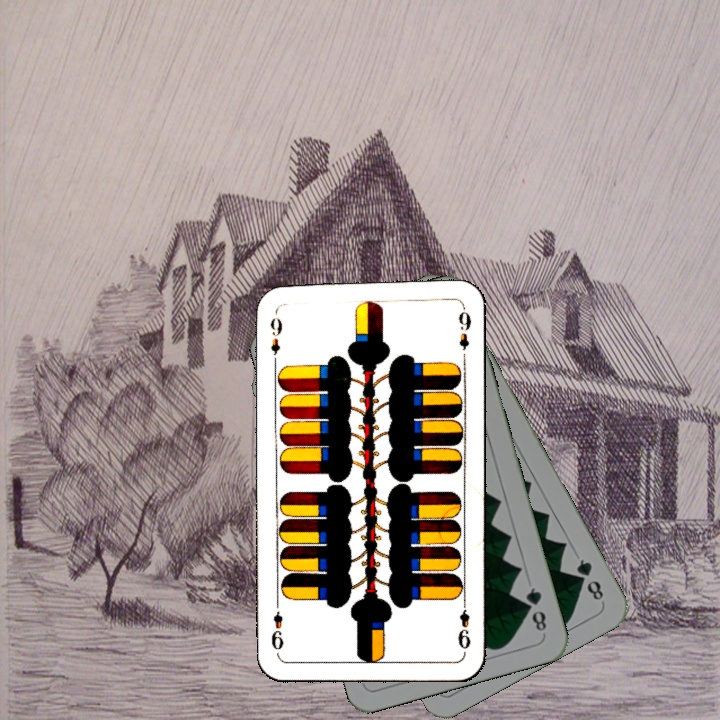E9: (454, 595, 473, 651), (266, 306, 284, 365)
G8: (572, 554, 607, 603), (521, 583, 549, 637)
